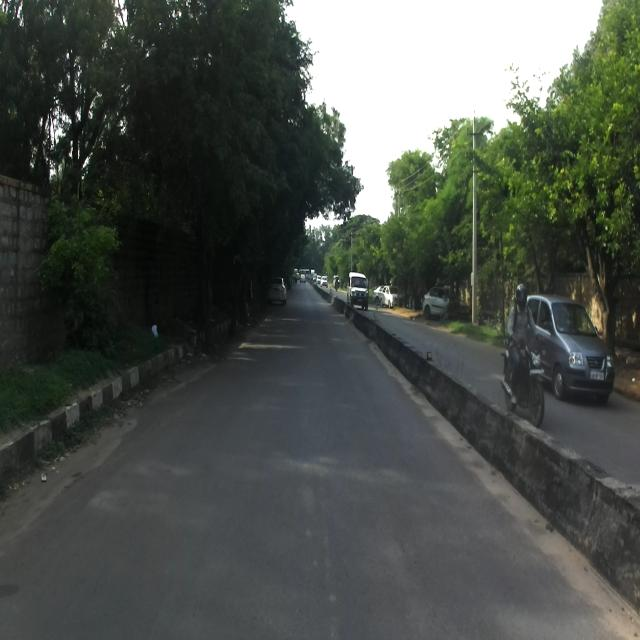motorcycle ahead at: (496, 332, 550, 426)
plant ahead at: (46, 191, 124, 368)
